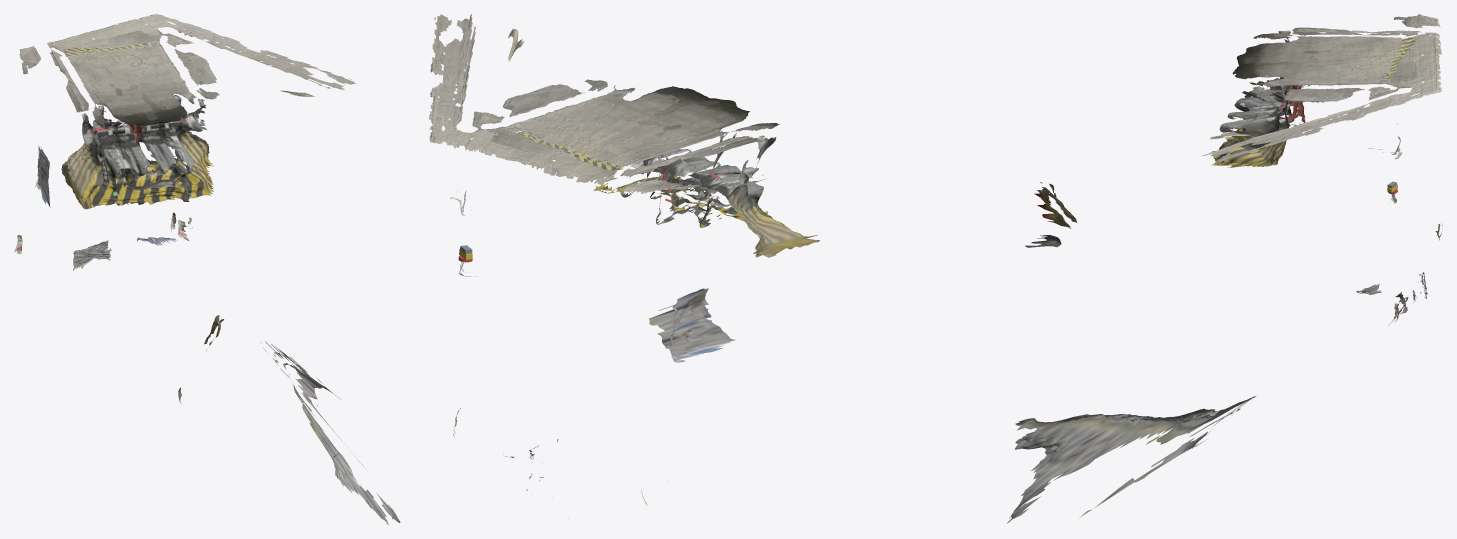
Rendered from object-extras.glb.
3 renders of one model, left to right at view 1: azimuth 30°, elevation 25°; view 2: azimuth 150°, elevation 25°; view 3: azimuth 270°, elevation 25°, orthographic. The views are drawn at different scales.
Parts seen in each view (by area): view 1: work-platform-1-photo-3-1, work-platform-3-photo-4-1, work-platform-1-photo-1-0, work-platform-2-photo-3-0, cable-tray-14-photo-3-0, work-platform-3-photo-3-0; view 2: work-platform-1-photo-3-1, work-platform-1-photo-1-0, work-platform-3-photo-4-1, sign-15-photo-4-1, work-platform-3-photo-3-0, work-platform-2-photo-3-0; view 3: work-platform-1-photo-3-1, cable-tray-14-photo-3-0, work-platform-1-photo-1-0, work-platform-3-photo-4-1, work-platform-3-photo-3-0, work-platform-2-photo-3-0.
Boxes of the visible parts, x1,y1,x2,y2 form: work-platform-1-photo-3-1: (19,14,355,128); work-platform-3-photo-4-1: (67,95,213,208); work-platform-1-photo-1-0: (22,29,219,126); work-platform-2-photo-3-0: (63,143,213,208); cable-tray-14-photo-3-0: (261,341,400,524); work-platform-3-photo-3-0: (61,95,213,209); work-platform-1-photo-3-1: (429,14,779,194); work-platform-1-photo-1-0: (472,79,777,189); work-platform-3-photo-4-1: (596,85,817,238); sign-15-photo-4-1: (649,288,735,356); work-platform-3-photo-3-0: (595,100,819,257); work-platform-2-photo-3-0: (593,175,814,255); work-platform-1-photo-3-1: (1202,14,1441,161); cable-tray-14-photo-3-0: (1007,396,1255,523); work-platform-1-photo-1-0: (1232,16,1422,102); work-platform-3-photo-4-1: (1219,30,1310,167); work-platform-3-photo-3-0: (1218,40,1305,166); work-platform-2-photo-3-0: (1211,85,1305,166).
Bounding box in the file's own units: 6.03 × 8.36 × 8.04.
